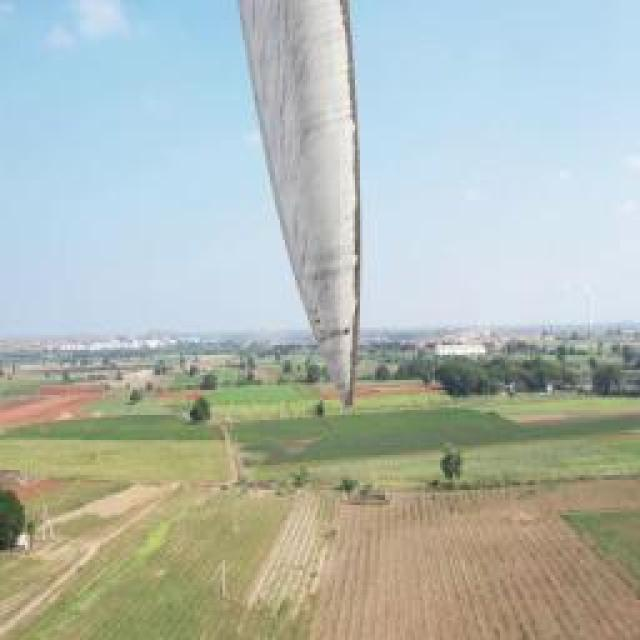Dirt: (234, 0, 348, 314)
Oil LEAKAGE: (340, 0, 365, 407)
Pin Hole: (342, 326, 352, 339)
